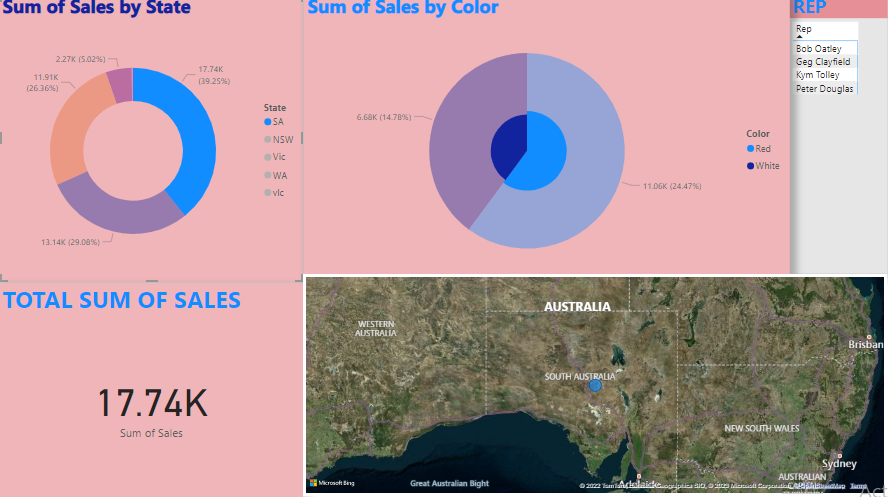

What the dashboard file says about the page in this screenshot:
{"tool":"powerbi","page":{"name":"Page 1","canvas":[1280,720],"ordinal":0},"visuals":[{"type":"donutChart","fields":{"Category":["Wine Sales Data.State"],"Y":["Wine Sales Data.Sales"]},"box":[10.1,0,435.1,414.9],"z":0},{"type":"pivotTable","title":"REP","fields":{"Rows":["Wine Sales Data.Rep"]},"box":[1138.9,0,141.1,401.5],"z":1},{"type":"pieChart","fields":{"Y":["Wine Sales Data.Sales"],"Category":["Wine Sales Data.Color"]},"box":[445.1,0,693.8,414.9],"z":2},{"type":"card","title":"TOTAL SUM OF SALES","fields":{"Values":["Wine Sales Data.Sales"]},"box":[10.1,414.9,435.1,305.7],"z":3},{"type":"map","fields":{"Category":["Wine Sales Data.State"],"Size":["Wine Sales Data.Sales"]},"box":[445.1,401.5,834.9,319.2],"z":4}]}

Visuals, with their boxes in screenshot pixels (x1, y1, x2, y2), scaled from the page's 1280x720 canvas onto the 889x498 screenshot:
donutChart - Wine Sales Data.State x Wine Sales Data.Sales: bbox=[7, 0, 309, 287]
"REP" pivotTable: bbox=[791, 0, 888, 278]
pieChart - Wine Sales Data.Sales x Wine Sales Data.Color: bbox=[309, 0, 791, 287]
"TOTAL SUM OF SALES" card: bbox=[7, 287, 309, 497]
map - Wine Sales Data.State x Wine Sales Data.Sales: bbox=[309, 278, 888, 497]
